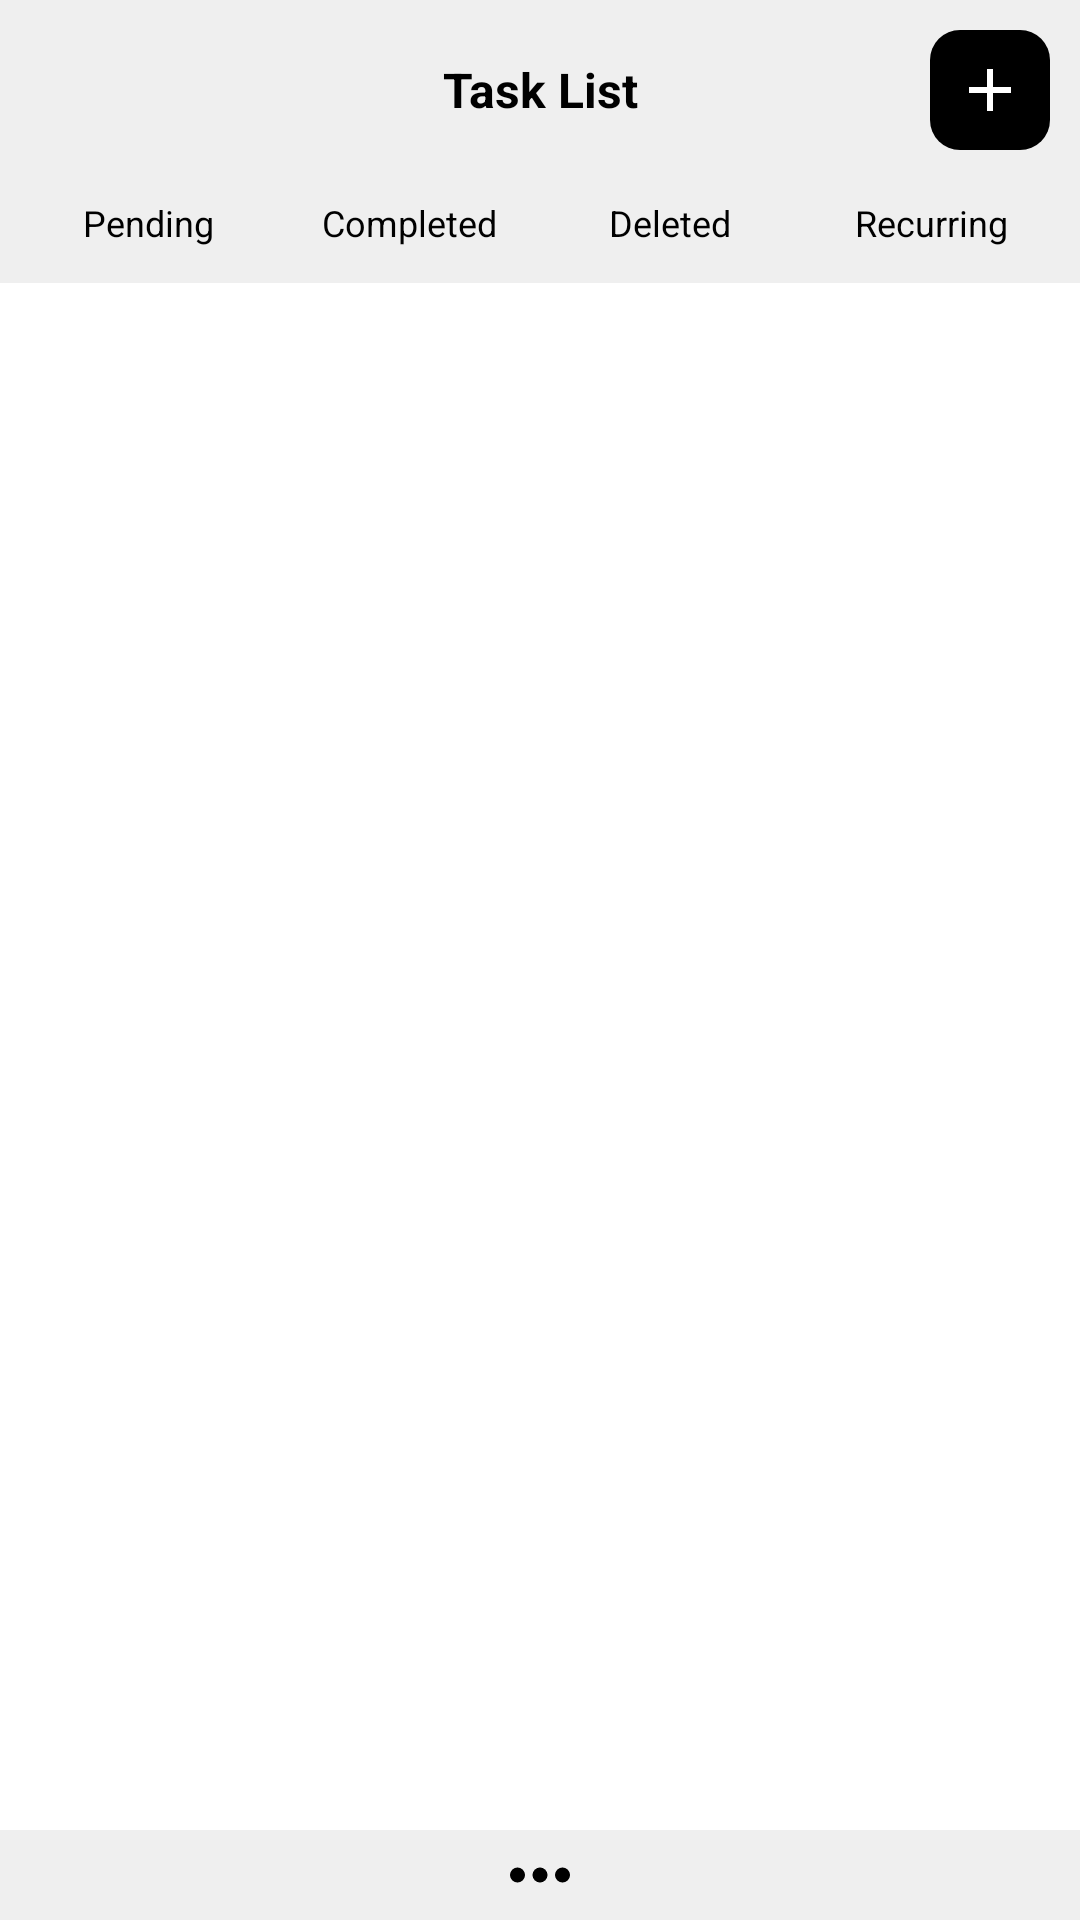

Icons on this 1080px x 1920px Android screen, each with its box as rect(x1, y1, x2, y2):
add: rect(930, 30, 1050, 150)
